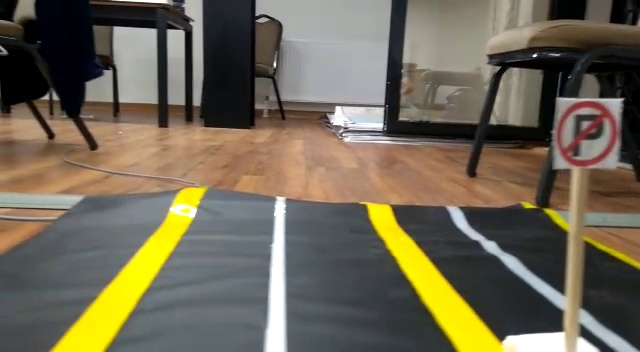park_yapilmaz: (553, 97, 620, 171)
